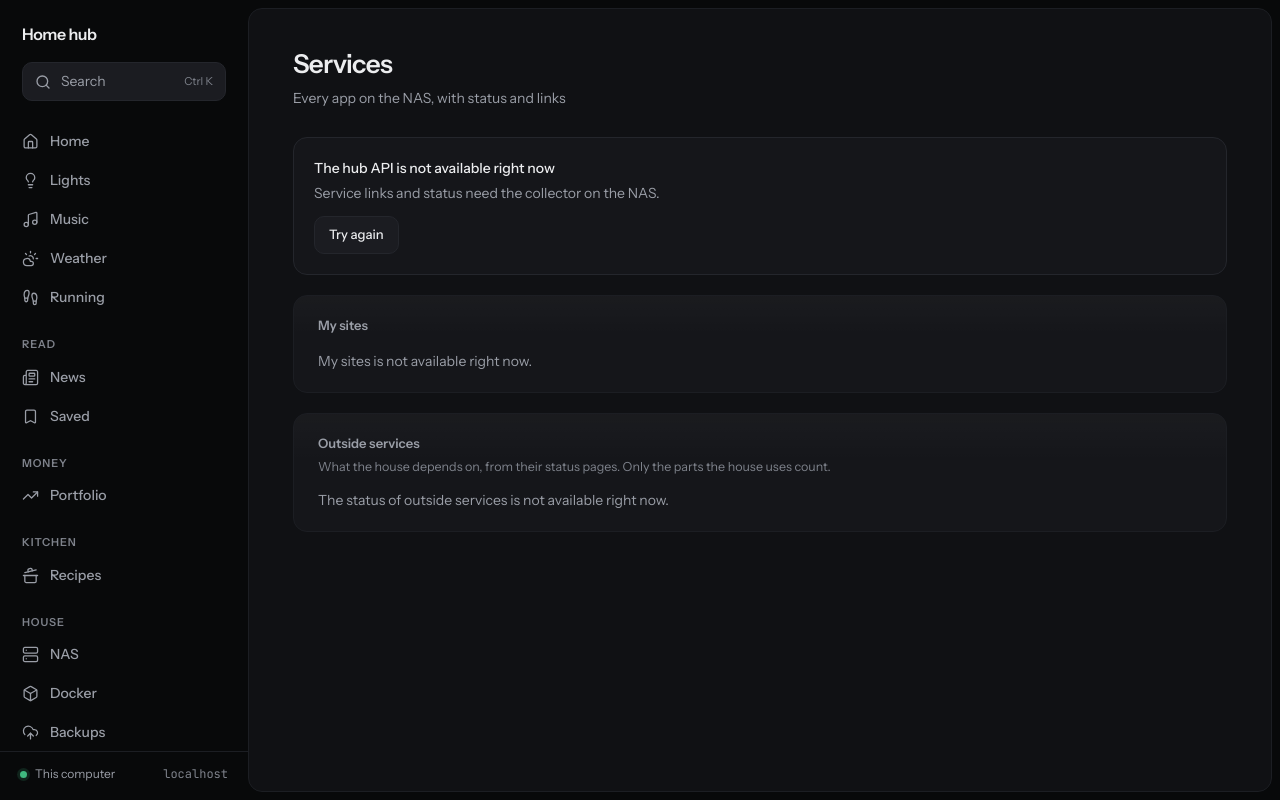
it: ServicesPage › offers a retry when the API does not answer
Expected: the message shows "The hub API is not available right now", [293,137,1227,274]
Click the button "Try again": (356, 235) [314,216,399,254]
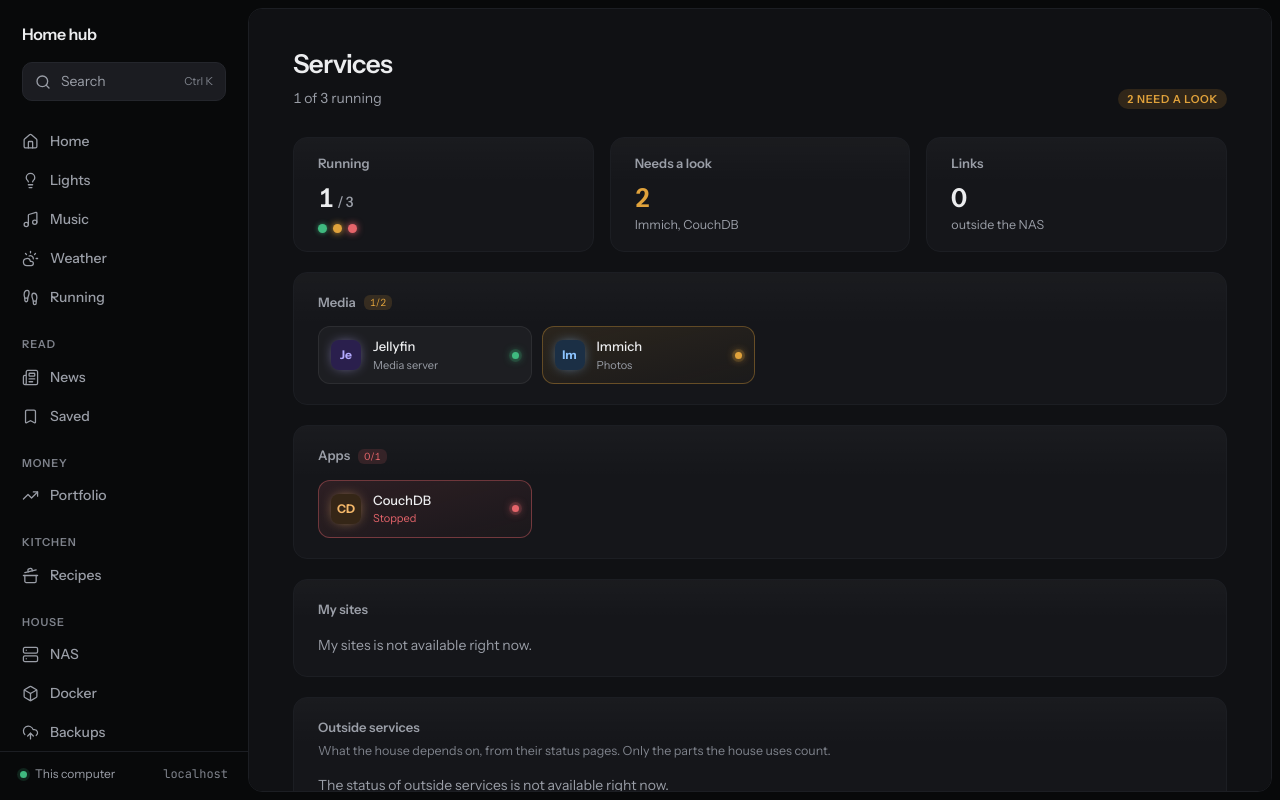
Result: the element "Media" is shown at [293,272,1227,405]
